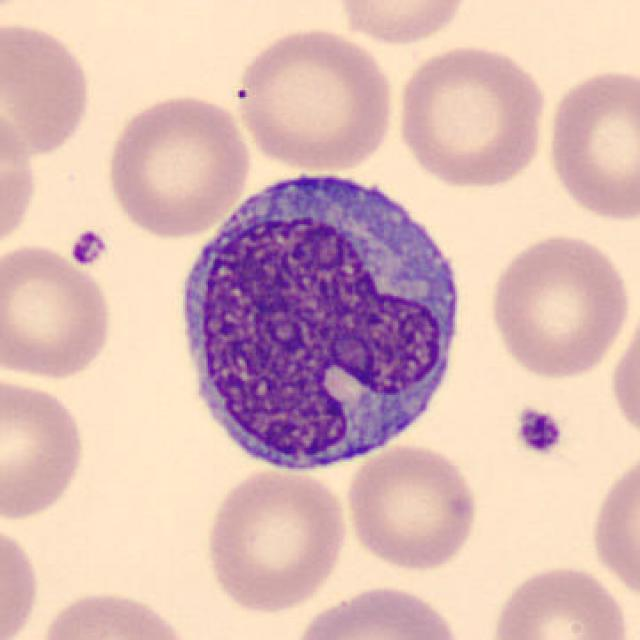Monocyte: (162, 155, 476, 483)
Platelets: (512, 404, 565, 458), (66, 226, 110, 270)
RBC: (230, 23, 398, 174), (391, 41, 549, 192), (102, 88, 255, 240), (199, 466, 352, 616), (483, 229, 633, 381), (341, 441, 482, 573), (0, 239, 117, 384), (542, 64, 640, 225), (0, 372, 91, 524), (0, 16, 96, 160), (485, 560, 632, 640), (288, 582, 466, 640), (34, 585, 197, 640), (586, 444, 640, 609), (331, 0, 476, 48), (0, 100, 41, 258), (0, 518, 44, 639), (606, 304, 640, 444), (0, 0, 44, 26)
